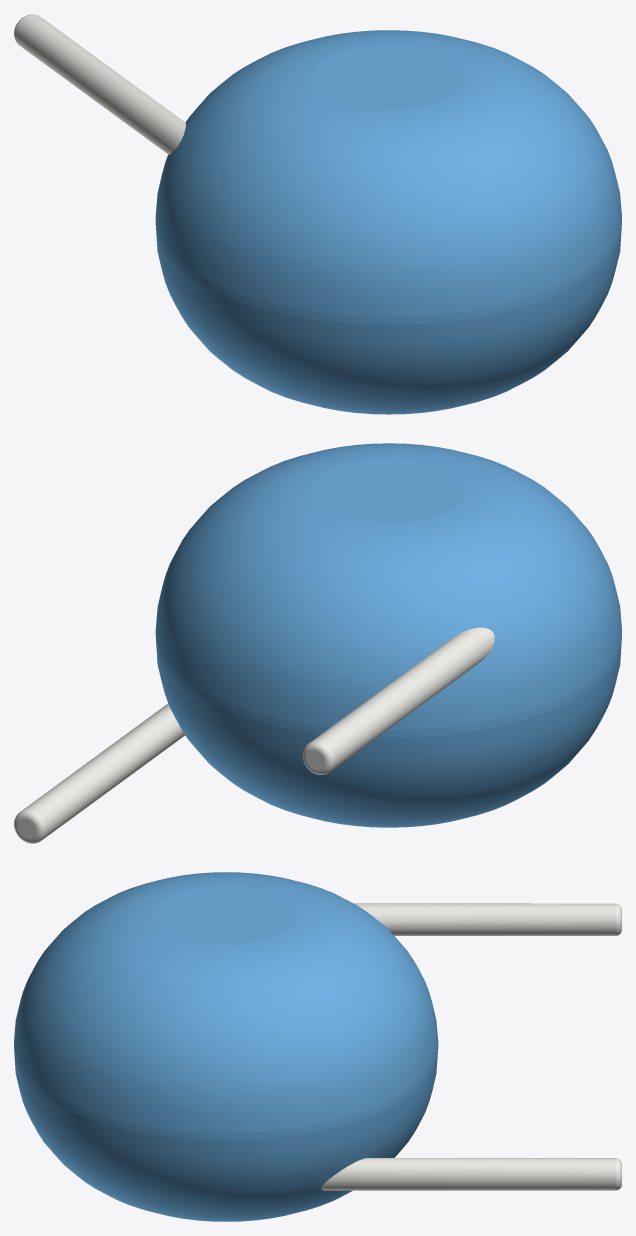
The model's file is RV_Disc_D7mm_W4.8mm_P5mm.glb.
The picture shows the model from 3 angles, top to bottom: view 1: azimuth 30°, elevation 25°; view 2: azimuth 150°, elevation 25°; view 3: azimuth 270°, elevation 25°; orthographic projection. The views are drawn at different scales.
Parts seen in each view (by area): view 1: Shape_IndexedFaceSet.001, Shape_IndexedFaceSet.002, Shape_IndexedFaceSet.003, Shape_IndexedFaceSet.004, Shape_IndexedFaceSet; view 2: Shape_IndexedFaceSet.001, Shape_IndexedFaceSet.002, Shape_IndexedFaceSet.003, Shape_IndexedFaceSet.004, Shape_IndexedFaceSet.006, Shape_IndexedFaceSet, Shape_IndexedFaceSet.007, Shape_IndexedFaceSet.008; view 3: Shape_IndexedFaceSet.001, Shape_IndexedFaceSet.002, Shape_IndexedFaceSet.006, Shape_IndexedFaceSet.004, Shape_IndexedFaceSet.003, Shape_IndexedFaceSet.
Boxes of the visible parts, bbox=[...] form: Shape_IndexedFaceSet.001: bbox=[155, 30, 621, 317]; Shape_IndexedFaceSet.002: bbox=[156, 230, 621, 414]; Shape_IndexedFaceSet.003: bbox=[312, 45, 465, 109]; Shape_IndexedFaceSet.004: bbox=[15, 14, 185, 154]; Shape_IndexedFaceSet: bbox=[155, 218, 621, 324]; Shape_IndexedFaceSet.001: bbox=[155, 443, 621, 730]; Shape_IndexedFaceSet.002: bbox=[156, 637, 621, 827]; Shape_IndexedFaceSet.003: bbox=[312, 458, 465, 523]; Shape_IndexedFaceSet.004: bbox=[310, 627, 494, 770]; Shape_IndexedFaceSet.006: bbox=[22, 703, 185, 839]; Shape_IndexedFaceSet: bbox=[155, 630, 621, 737]; Shape_IndexedFaceSet.007: bbox=[302, 741, 334, 774]; Shape_IndexedFaceSet.008: bbox=[14, 810, 45, 843]; Shape_IndexedFaceSet.001: bbox=[14, 872, 438, 1133]; Shape_IndexedFaceSet.002: bbox=[14, 1053, 437, 1221]; Shape_IndexedFaceSet.006: bbox=[321, 1158, 615, 1190]; Shape_IndexedFaceSet.004: bbox=[353, 903, 615, 935]; Shape_IndexedFaceSet.003: bbox=[156, 885, 295, 944]; Shape_IndexedFaceSet: bbox=[14, 1042, 438, 1139].
Size of the model in its own units: 2.75 by 1.89 by 3.95.
